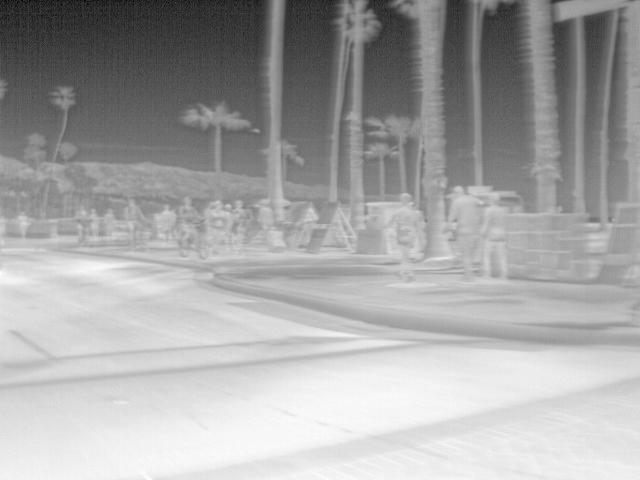person: (383, 191, 425, 284), (447, 185, 480, 280), (480, 192, 511, 280), (177, 195, 204, 250), (124, 197, 147, 248), (228, 197, 247, 244), (157, 202, 176, 244), (205, 199, 227, 233), (74, 203, 92, 240), (15, 208, 33, 241), (84, 206, 101, 239)
